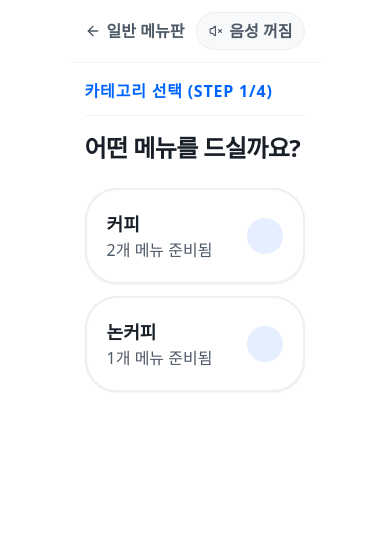
Test: WizardOrderView & One-Handed Layout › supports adding item to cart and returning to step 1 for multi-item ordering
// Select coffee
Click the button "커피 2개 메뉴 준비됨": (195, 236) [85,188,305,284]
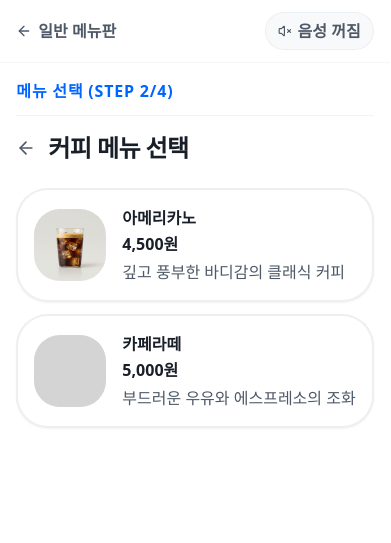
// Select latte
Click the button "카페라떼 5,000원 부드러운 우유와 에스프레소의 조화": (70, 371) [16,314,374,428]
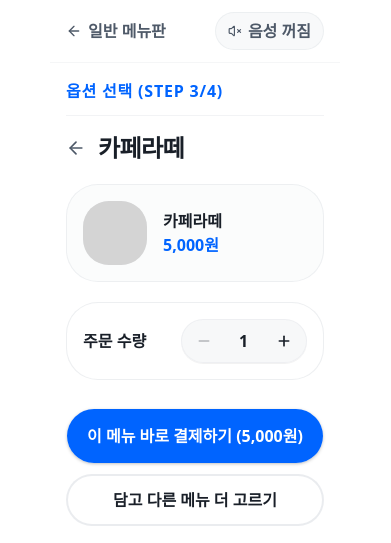
// Click "담고 다른 메뉴 더 고르기"
Click the button "담고 다른 메뉴 더 고르기": (195, 500) [66,474,324,526]
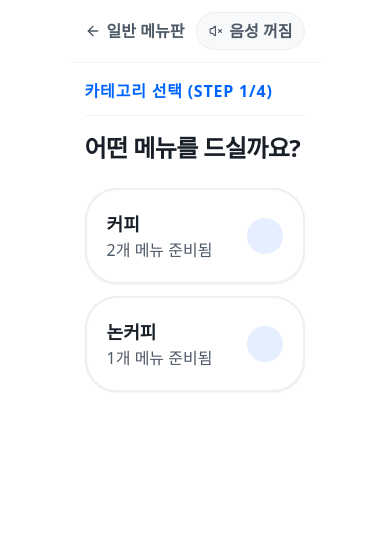
Expected: the heading "어떤 메뉴를 드실까요?" is shown, [85,132,305,164]
